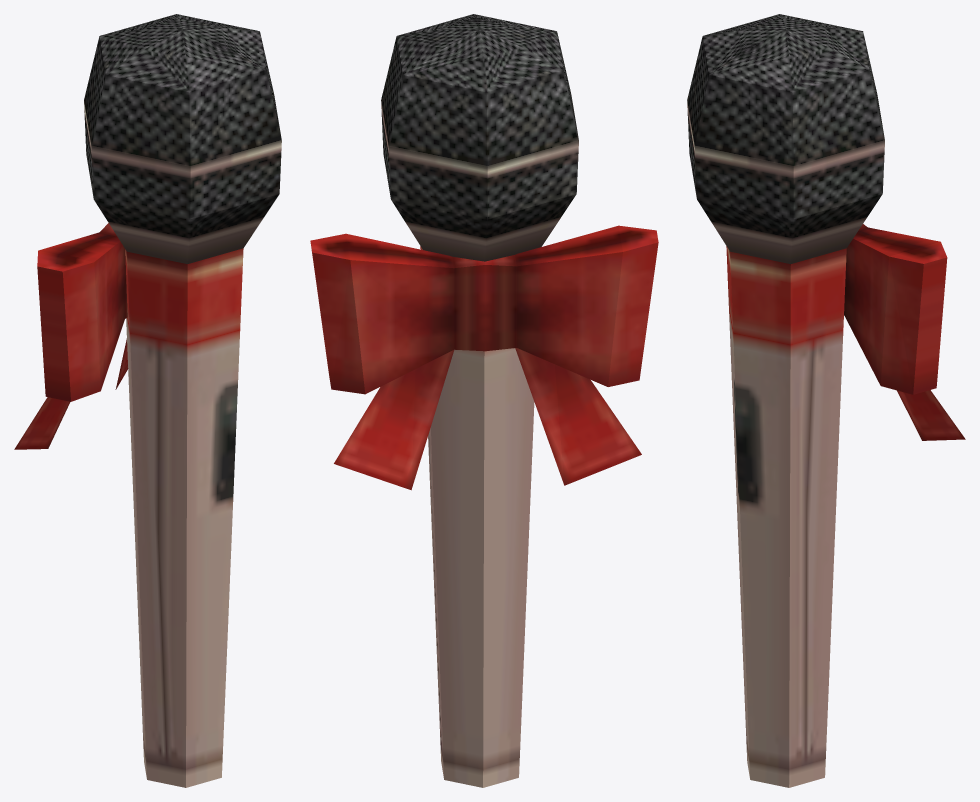
File: Sheep_starMicrophone.obj
3 views of the same model, side by side, from view 1: azimuth 30°, elevation 25°; view 2: azimuth 150°, elevation 25°; view 3: azimuth 270°, elevation 25° (orthographic).
Parts seen in each view (by area): view 1: Sheep_starMicrophone_tri; view 2: Sheep_starMicrophone_tri; view 3: Sheep_starMicrophone_tri.
Part boxes in pixels (x1,y1,x2,y2): Sheep_starMicrophone_tri: [14, 14, 281, 787]; Sheep_starMicrophone_tri: [310, 14, 658, 787]; Sheep_starMicrophone_tri: [687, 14, 965, 787].
Size of the model in its own units: 0.1192 by 0.3165 by 0.108.
1 material, 1 textured.
